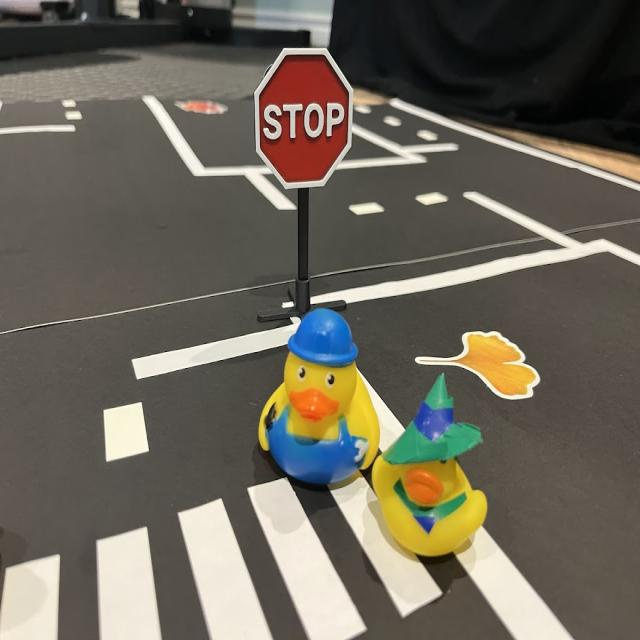duck_regular: (374, 374, 489, 560)
duck_specialty: (260, 309, 384, 491)
road_crosswalk: (1, 444, 451, 640)
sign_stop: (255, 50, 355, 194)
